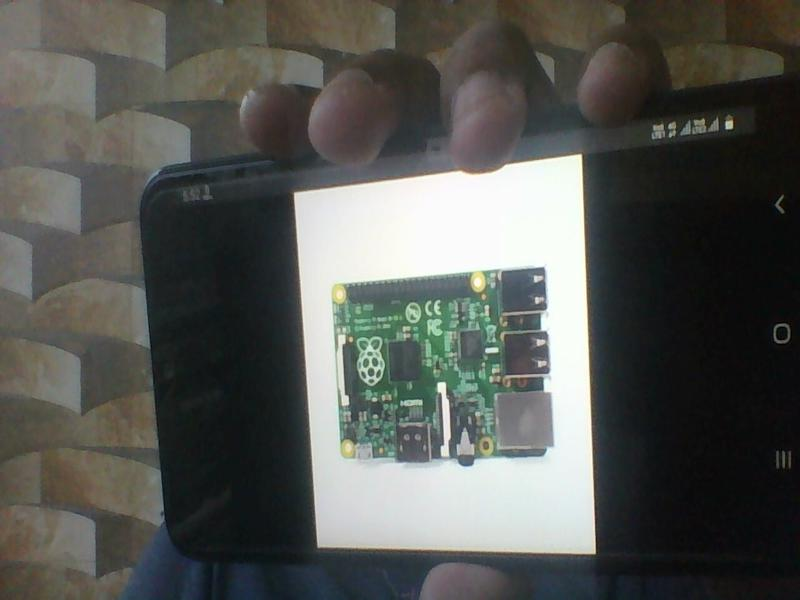aud: (455, 416, 478, 470)
eth: (492, 390, 556, 448)
usb: (497, 267, 550, 315), (499, 331, 553, 375)
